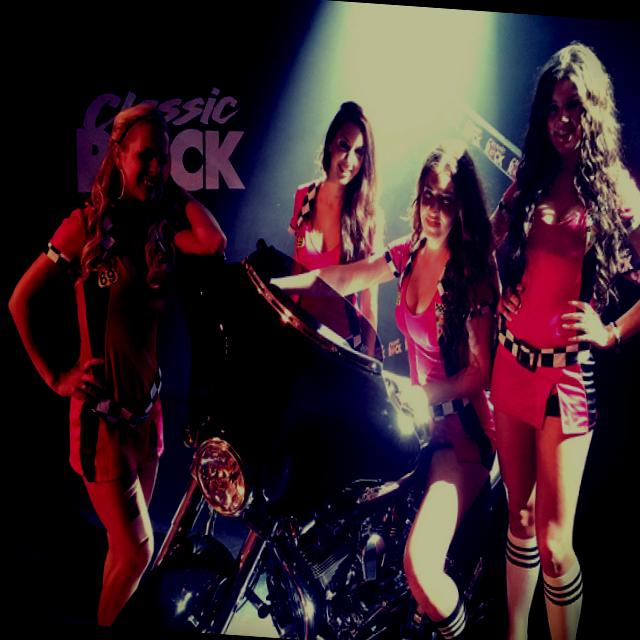Vehicle: (112, 238, 530, 640)
